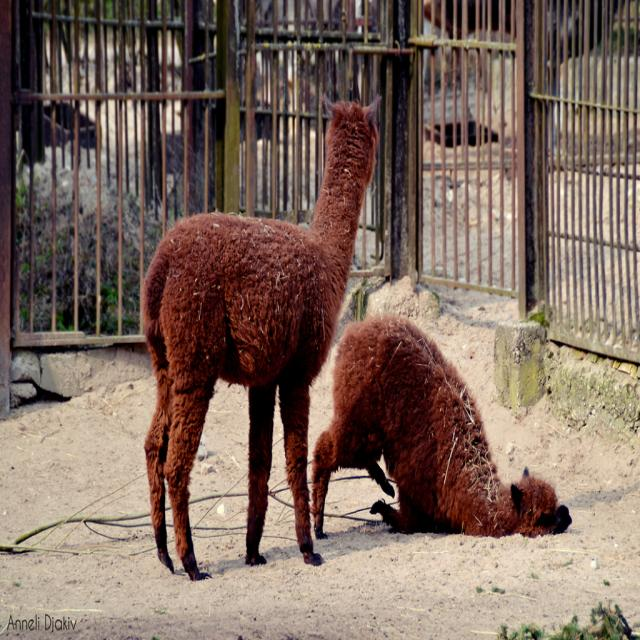alpaca: (139, 93, 378, 575), (313, 312, 573, 539)
